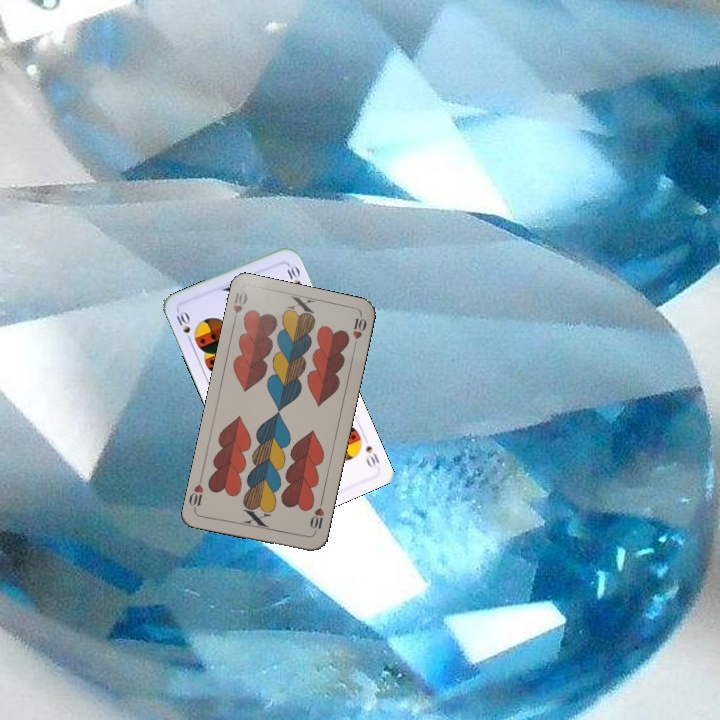H10: (229, 287, 250, 327), (306, 497, 326, 537)
S10: (172, 306, 195, 346), (361, 441, 382, 470)
